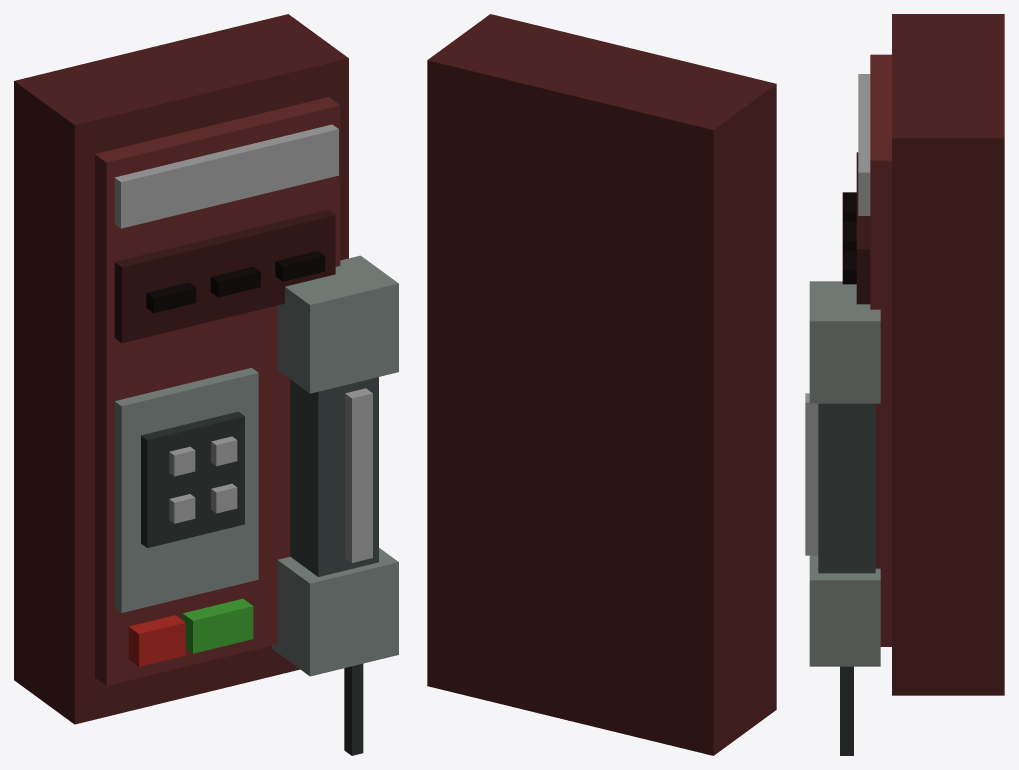
Rendered from CMU3DWallPhone.glb.
3 renders of one model, left to right at view 1: azimuth 30°, elevation 25°; view 2: azimuth 150°, elevation 25°; view 3: azimuth 270°, elevation 25°, orthographic. The views are drawn at different scales.
Visible parts, largest first — view 1: wall phone red body, front faceplate, lower control plate, upper slot surround, receiver top right, receiver bottom right, top label area, receiver grip right, lower keypad, receiver highlight, upper horizontal slot (×3), green indicator (+3 smaller); view 2: wall phone red body; view 3: wall phone red body, front faceplate, receiver grip right, receiver top right, receiver bottom right, receiver highlight, top label area, upper slot surround, upper horizontal slot (×3), cord drop right.
Part boxes in pixels (x1,y1,x2,y2): wall phone red body: [14, 14, 348, 724]; front faceplate: [95, 97, 340, 685]; lower control plate: [114, 368, 258, 612]; upper slot surround: [114, 210, 335, 343]; receiver top right: [277, 255, 398, 393]; receiver bottom right: [272, 548, 398, 676]; top label area: [114, 124, 338, 228]; receiver grip right: [290, 377, 378, 576]; lower keypad: [141, 411, 244, 547]; receiver highlight: [345, 388, 372, 562]; upper horizontal slot (×3): [146, 251, 325, 313]; green indicator: [182, 598, 253, 653]; wall phone red body: [427, 14, 776, 755]; wall phone red body: [892, 14, 1004, 695]; front faceplate: [870, 54, 891, 646]; receiver grip right: [818, 403, 875, 573]; receiver top right: [809, 281, 880, 403]; receiver bottom right: [809, 555, 880, 666]; receiver highlight: [805, 393, 818, 555]; top label area: [858, 74, 870, 215]; upper slot surround: [856, 152, 870, 304]; upper horizontal slot (×3): [842, 192, 856, 284]; cord drop right: [840, 666, 853, 755].
Size of the model in its own units: 0.347 by 0.795 by 0.23.
